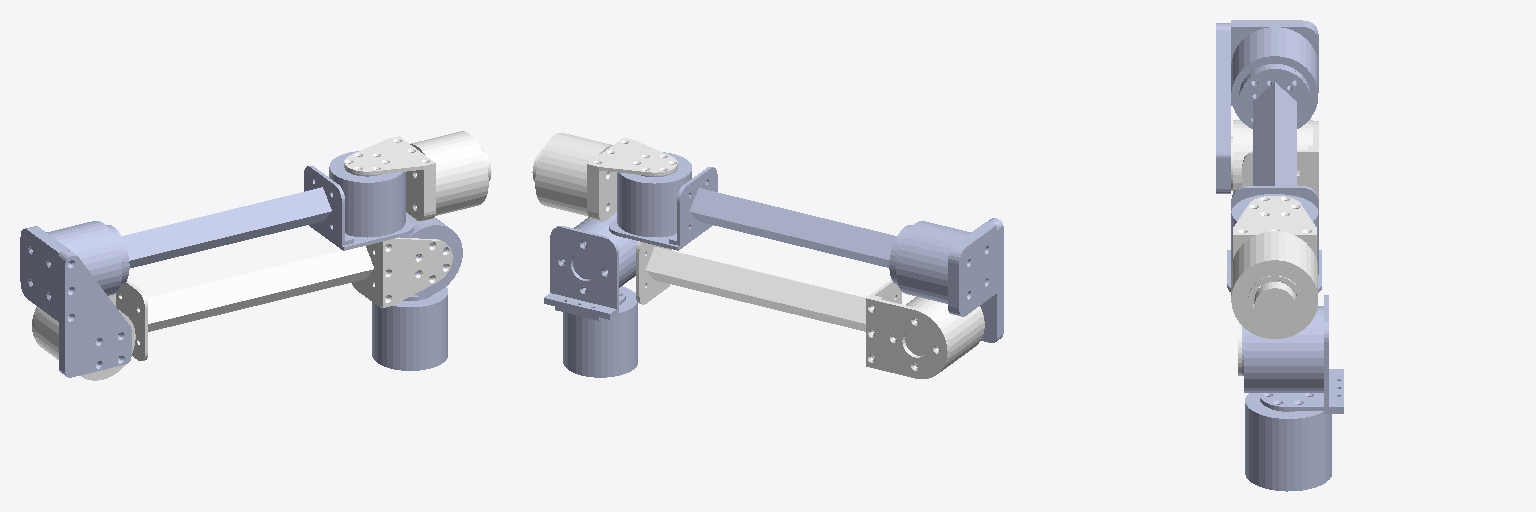
robot.urdf — arm_robot:
<?xml version="1.0" encoding="utf-8"?>
<!-- This URDF was automatically created by SolidWorks to URDF Exporter! Originally created by [author] ([email redacted]) 
     Commit Version: 1.6.0-4-g7f85cfe  Build Version: 1.6.7995.38578
     For more information, please see http://wiki.ros.org/sw_urdf_exporter -->
<robot
  name="arm_robot">
  <link
    name="base_link">
    <inertial>
      <origin
        xyz="4.3658E-17 2.0209E-18 0.026306"
        rpy="0 0 0" />
      <mass
        value="0.134" />
      <inertia
        ixx="5.797E-05"
        ixy="4.039E-24"
        ixz="-4.9245E-21"
        iyy="5.797E-05"
        iyz="2.6382E-22"
        izz="5.422E-05" />
    </inertial>
    <visual>
      <origin
        xyz="0 0 0"
        rpy="0 0 0" />
      <geometry>
        <mesh
          filename="package://arm_robot/meshes/base_link.STL" />
      </geometry>
      <material
        name="">
        <color
          rgba="0.79216 0.81961 0.93333 1" />
      </material>
    </visual>
    <collision>
      <origin
        xyz="0 0 0"
        rpy="0 0 0" />
      <geometry>
        <mesh
          filename="package://arm_robot/meshes/base_link.STL" />
      </geometry>
    </collision>
  </link>
  <link
    name="link_6">
    <inertial>
      <origin
        xyz="1.4316E-17 -0.00035171 0.03104"
        rpy="0 0 0" />
      <mass
        value="0.15154" />
      <inertia
        ixx="6.4227E-05"
        ixy="1.555E-21"
        ixz="8.6655E-22"
        iyy="6.3444E-05"
        iyz="3.8382E-07"
        izz="6.3559E-05" />
    </inertial>
    <visual>
      <origin
        xyz="0 0 0"
        rpy="0 0 0" />
      <geometry>
        <mesh
          filename="package://arm_robot/meshes/link_6.STL" />
      </geometry>
      <material
        name="">
        <color
          rgba="0.79216 0.81961 0.93333 1" />
      </material>
    </visual>
    <collision>
      <origin
        xyz="0 0 0"
        rpy="0 0 0" />
      <geometry>
        <mesh
          filename="package://arm_robot/meshes/link_6.STL" />
      </geometry>
    </collision>
  </link>
  <joint
    name="joint_6"
    type="revolute">
    <origin
      xyz="0 0 0.0563"
      rpy="0 0 0" />
    <parent
      link="base_link" />
    <child
      link="link_6" />
    <axis
      xyz="0 0 1" />
    <limit
      lower="-3"
      upper="3"
      effort="1"
      velocity="1" />
    <dynamics
      damping="1"
      friction="1" />
    <safety_controller
      soft_upper_limit="3"
      soft_lower_limit="-3"
      k_position="1"
      k_velocity="1" />
  </joint>
  <link
    name="link_5">
    <inertial>
      <origin
        xyz="0.23253 5.5511E-17 -0.023931"
        rpy="0 0 0" />
      <mass
        value="0.21404" />
      <inertia
        ixx="6.3317E-05"
        ixy="-1.8384E-20"
        ixz="2.4161E-10"
        iyy="0.00032731"
        iyz="-2.1399E-20"
        izz="0.00032357" />
    </inertial>
    <visual>
      <origin
        xyz="0 0 0"
        rpy="0 0 0" />
      <geometry>
        <mesh
          filename="package://arm_robot/meshes/link_5.STL" />
      </geometry>
      <material
        name="">
        <color
          rgba="1 1 1 1" />
      </material>
    </visual>
    <collision>
      <origin
        xyz="0 0 0"
        rpy="0 0 0" />
      <geometry>
        <mesh
          filename="package://arm_robot/meshes/link_5.STL" />
      </geometry>
    </collision>
  </link>
  <joint
    name="joint_5"
    type="revolute">
    <origin
      xyz="0 -0.033175 0.033"
      rpy="-1.5708 0 -3.1416" />
    <parent
      link="link_6" />
    <child
      link="link_5" />
    <axis
      xyz="0 0 1" />
    <limit
      lower="-3"
      upper="3"
      effort="1"
      velocity="1" />
    <dynamics
      damping="1"
      friction="1" />
    <safety_controller
      soft_upper_limit="3"
      soft_lower_limit="-3"
      k_position="1"
      k_velocity="1" />
  </joint>
  <link
    name="link_4">
    <inertial>
      <origin
        xyz="0.012508 -0.050154 -0.031376"
        rpy="0 0 0" />
      <mass
        value="0.0001863" />
      <inertia
        ixx="8.9072E-08"
        ixy="5.9674E-09"
        ixz="-6.2698E-13"
        iyy="6.1154E-08"
        iyz="1.029E-13"
        izz="8.6192E-08" />
    </inertial>
    <visual>
      <origin
        xyz="0 0 0"
        rpy="0 0 0" />
      <geometry>
        <mesh
          filename="package://arm_robot/meshes/link_4.STL" />
      </geometry>
      <material
        name="">
        <color
          rgba="0.79216 0.81961 0.93333 1" />
      </material>
    </visual>
    <collision>
      <origin
        xyz="0 0 0"
        rpy="0 0 0" />
      <geometry>
        <mesh
          filename="package://arm_robot/meshes/link_4.STL" />
      </geometry>
    </collision>
  </link>
  <joint
    name="joint_4"
    type="revolute">
    <origin
      xyz="0.286 0 0.0143"
      rpy="0 0 0" />
    <parent
      link="link_5" />
    <child
      link="link_4" />
    <axis
      xyz="0 0 -1" />
    <limit
      lower="-3"
      upper="3"
      effort="1"
      velocity="1" />
    <dynamics
      damping="1"
      friction="1" />
    <safety_controller
      soft_upper_limit="3"
      soft_lower_limit="-3"
      k_position="1"
      k_velocity="1" />
  </joint>
  <link
    name="link_3">
    <inertial>
      <origin
        xyz="-7.8063E-17 -0.0031529 0.097839"
        rpy="0 0 0" />
      <mass
        value="0.09211" />
      <inertia
        ixx="0.00020224"
        ixy="-7.9455E-16"
        ixz="1.0827E-19"
        iyy="0.00020593"
        iyz="1.2343E-09"
        izz="1.0799E-05" />
    </inertial>
    <visual>
      <origin
        xyz="0 0 0"
        rpy="0 0 0" />
      <geometry>
        <mesh
          filename="package://arm_robot/meshes/link_3.STL" />
      </geometry>
      <material
        name="">
        <color
          rgba="0.79216 0.81961 0.93333 1" />
      </material>
    </visual>
    <collision>
      <origin
        xyz="0 0 0"
        rpy="0 0 0" />
      <geometry>
        <mesh
          filename="package://arm_robot/meshes/link_3.STL" />
      </geometry>
    </collision>
  </link>
  <joint
    name="joint_3"
    type="revolute">
    <origin
      xyz="-0.0255 -0.057 -0.0385"
      rpy="3.1416 1.5708 0" />
    <parent
      link="link_4" />
    <child
      link="link_3" />
    <axis
      xyz="0 0 -1" />
    <limit
      lower="-3"
      upper="3"
      effort="1"
      velocity="1" />
    <dynamics
      damping="1"
      friction="1" />
    <safety_controller
      soft_upper_limit="3"
      soft_lower_limit="-3"
      k_position="1"
      k_velocity="1" />
  </joint>
  <link
    name="link_2">
    <inertial>
      <origin
        xyz="0.058734 -5.7246E-17 -0.024752"
        rpy="0 0 0" />
      <mass
        value="0.00014694" />
      <inertia
        ixx="5.8114E-08"
        ixy="3.9873E-24"
        ixz="-6.9618E-13"
        iyy="4.9317E-08"
        iyz="1.967E-24"
        izz="5.2432E-08" />
    </inertial>
    <visual>
      <origin
        xyz="0 0 0"
        rpy="0 0 0" />
      <geometry>
        <mesh
          filename="package://arm_robot/meshes/link_2.STL" />
      </geometry>
      <material
        name="">
        <color
          rgba="1 1 1 1" />
      </material>
    </visual>
    <collision>
      <origin
        xyz="0 0 0"
        rpy="0 0 0" />
      <geometry>
        <mesh
          filename="package://arm_robot/meshes/link_2.STL" />
      </geometry>
    </collision>
  </link>
  <joint
    name="joint_2"
    type="revolute">
    <origin
      xyz="0 0.026 0.2185"
      rpy="-1.5708 -1.5708 0" />
    <parent
      link="link_3" />
    <child
      link="link_2" />
    <axis
      xyz="0 0 -1" />
    <limit
      lower="-3"
      upper="3"
      effort="1"
      velocity="1" />
    <dynamics
      damping="1"
      friction="1" />
    <safety_controller
      soft_upper_limit="3"
      soft_lower_limit="-3"
      k_position="1"
      k_velocity="1" />
  </joint>
  <link
    name="link_1">
    <inertial>
      <origin
        xyz="4.8572E-17 2.7756E-17 0.005"
        rpy="0 0 0" />
      <mass
        value="0.0057256" />
      <inertia
        ixx="3.0858E-07"
        ixy="4.4116E-24"
        ixz="3.2362E-22"
        iyy="3.0858E-07"
        iyz="-4.3305E-24"
        izz="5.2174E-07" />
    </inertial>
    <visual>
      <origin
        xyz="0 0 0"
        rpy="0 0 0" />
      <geometry>
        <mesh
          filename="package://arm_robot/meshes/link_1.STL" />
      </geometry>
      <material
        name="">
        <color
          rgba="1 1 1 1" />
      </material>
    </visual>
    <collision>
      <origin
        xyz="0 0 0"
        rpy="0 0 0" />
      <geometry>
        <mesh
          filename="package://arm_robot/meshes/link_1.STL" />
      </geometry>
    </collision>
  </link>
  <joint
    name="joint_1"
    type="revolute">
    <origin
      xyz="0.089 0 -0.026"
      rpy="1.5708 0 1.5708" />
    <parent
      link="link_2" />
    <child
      link="link_1" />
    <axis
      xyz="0 0 -1" />
    <limit
      lower="-3"
      upper="3"
      effort="1"
      velocity="1" />
    <dynamics
      damping="1"
      friction="1" />
    <safety_controller
      soft_upper_limit="3"
      soft_lower_limit="-3"
      k_position="1"
      k_velocity="1" />
  </joint>
</robot>

--- Facts derived from the render (not from the file) ---
Views: 3 orthographic renders of the robot side by side, from view 1: azimuth 30°, elevation 25°; view 2: azimuth 150°, elevation 25°; view 3: azimuth 270°, elevation 25°.
Model arm_robot with 7 links and 6 joints (6 revolute), rooted at base_link, posed all joints at 0.
Visible links, largest first — view 1: link_5, link_3, link_4, link_2, base_link, link_6; view 2: link_5, link_3, link_4, link_2, link_6, base_link; view 3: link_2, link_3, link_4, link_6, base_link, link_5, link_1.
Link boxes in pixels (x1,y1,x2,y2): link_5: (32,237,452,380); link_3: (106,151,413,285); link_4: (20,221,131,377); link_2: (344,131,488,220); base_link: (372,286,447,370); link_6: (400,212,462,300); link_5: (636,241,984,378); link_3: (609,152,912,284); link_4: (896,218,1003,342); link_2: (535,133,677,221); link_6: (544,213,637,320); base_link: (563,286,637,377); link_2: (1231,196,1317,338); link_3: (1227,64,1321,292); link_4: (1216,20,1318,193); link_6: (1242,295,1343,413); base_link: (1245,393,1331,491); link_5: (1231,120,1318,375); link_1: (1254,282,1295,325).
Size in the robot's own frame: 0.3815 by 0.0836 by 0.1748 metres.
Meshes: 7 distinct files referenced, 7 mesh visuals loaded (7 binary STL).